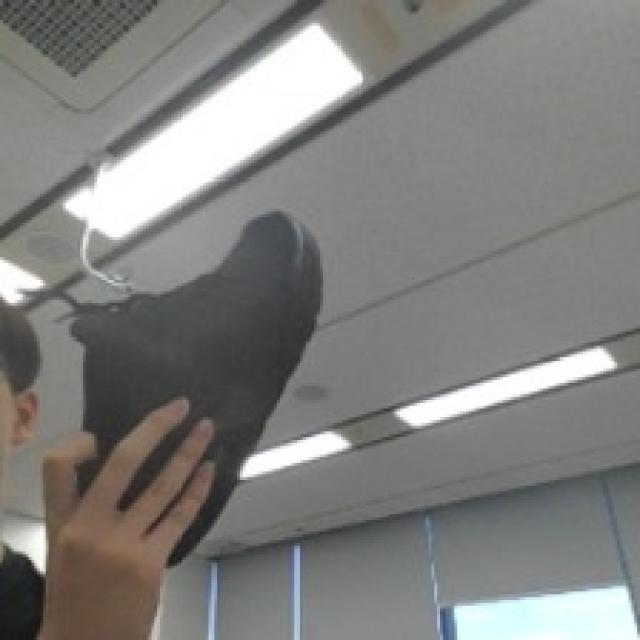shoe: (36, 190, 387, 570)
